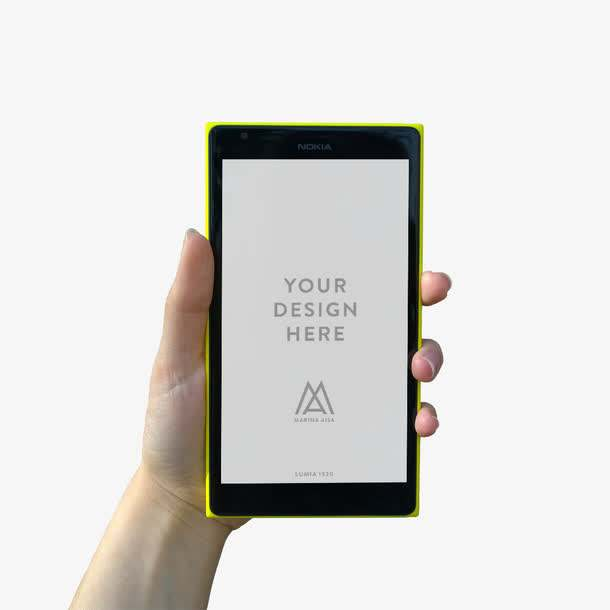phone: (125, 116, 457, 554)
